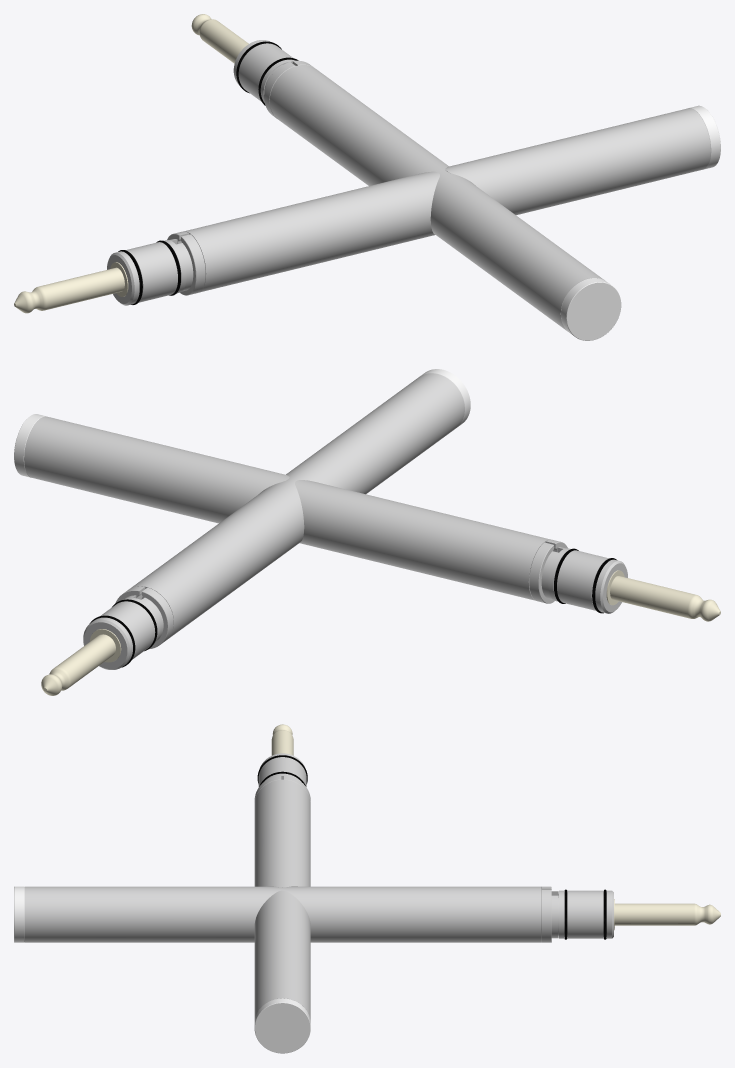
File: CrossEnd.glb
The picture shows the model from 3 angles, top to bottom: view 1: azimuth 30°, elevation 25°; view 2: azimuth 150°, elevation 25°; view 3: azimuth 270°, elevation 25°; orthographic projection. The views are drawn at different scales.
Parts seen in each view (by area): view 1: Body1.156; view 2: Body1.156; view 3: Body1.156.
Boxes of the visible parts, bbox=[...] form: Body1.156: bbox=[14, 14, 720, 340]; Body1.156: bbox=[14, 369, 720, 695]; Body1.156: bbox=[14, 724, 720, 1053].
Size of the model in its own units: 2.01 by 0.1606 by 2.01.
